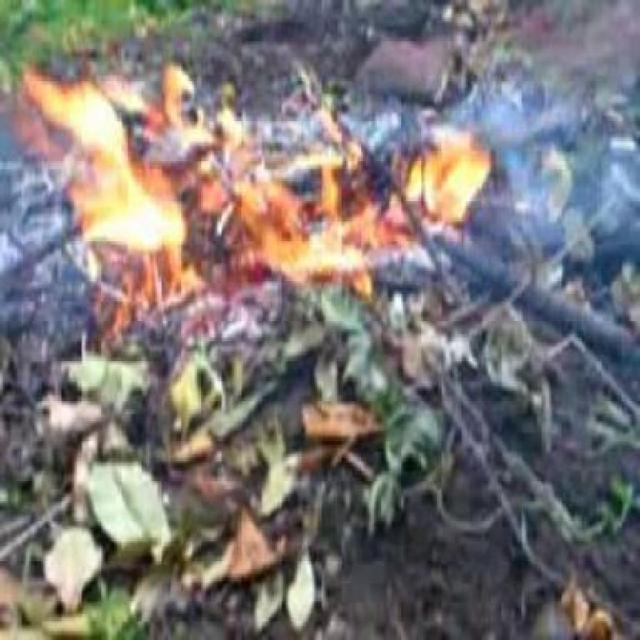Fire: (11, 55, 494, 348)
